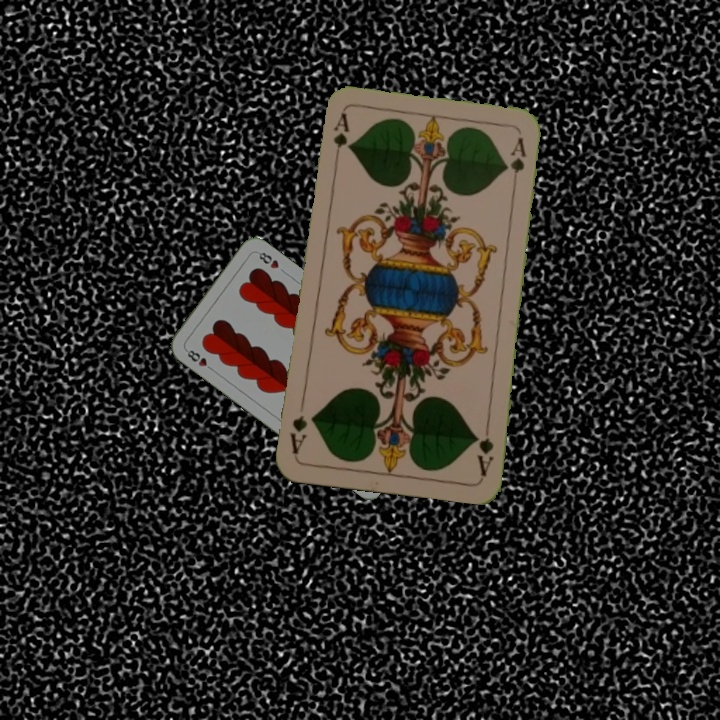GA: (471, 420, 497, 479), (329, 110, 350, 169)
H8: (182, 345, 217, 374)
